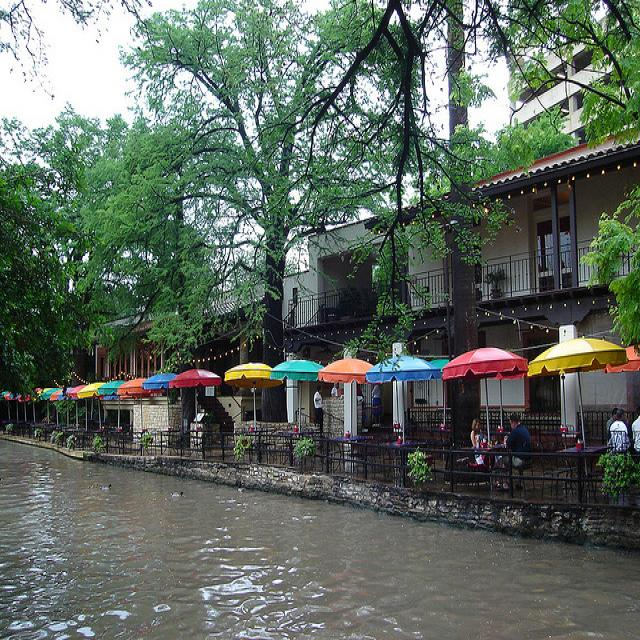chair: (540, 458, 572, 499)
dining table: (558, 439, 612, 454), (159, 430, 179, 454), (478, 441, 505, 452), (275, 428, 315, 435), (390, 441, 426, 448), (47, 424, 64, 431), (203, 432, 239, 434), (66, 428, 85, 430)
